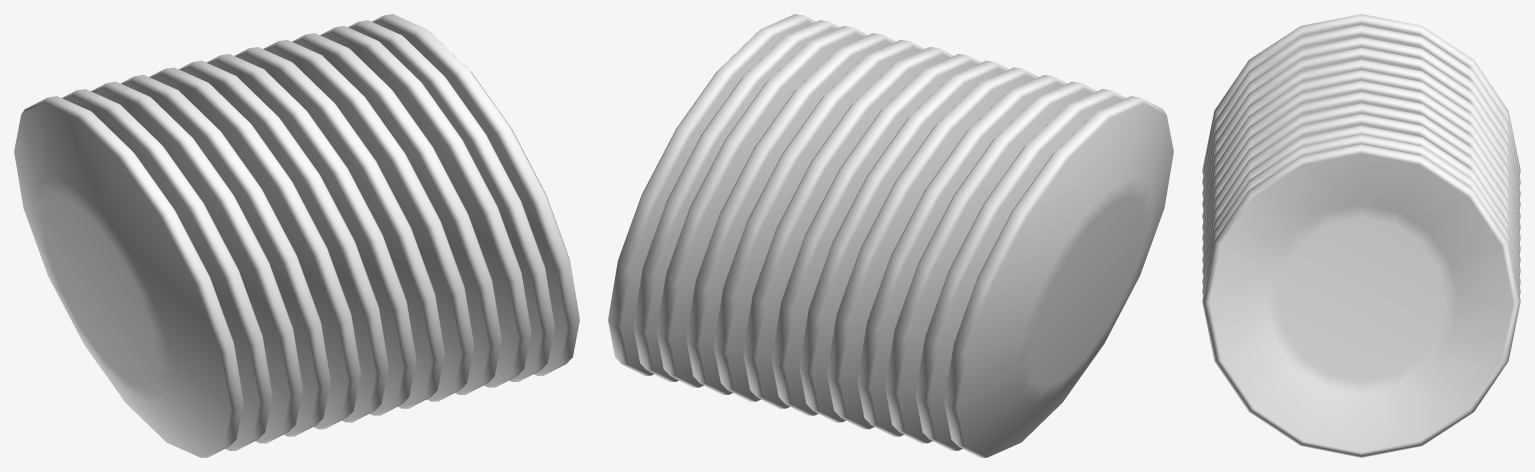
File: Plates_2.glb
3 renders of one model, left to right at view 1: azimuth 30°, elevation 25°; view 2: azimuth 150°, elevation 25°; view 3: azimuth 270°, elevation 25°, orthographic. The views are drawn at different scales.
Parts seen in each view (by area): view 1: Plates_2; view 2: Plates_2; view 3: Plates_2.
Boxes of the visible parts, box(x1,y1,x2,y2) form: Plates_2: box(14, 14, 579, 457); Plates_2: box(608, 14, 1173, 457); Plates_2: box(1202, 14, 1520, 457).
Size of the model in its own units: 0.4556 by 0.3456 by 0.3578.
Materials: 1 (1 with a texture image).
